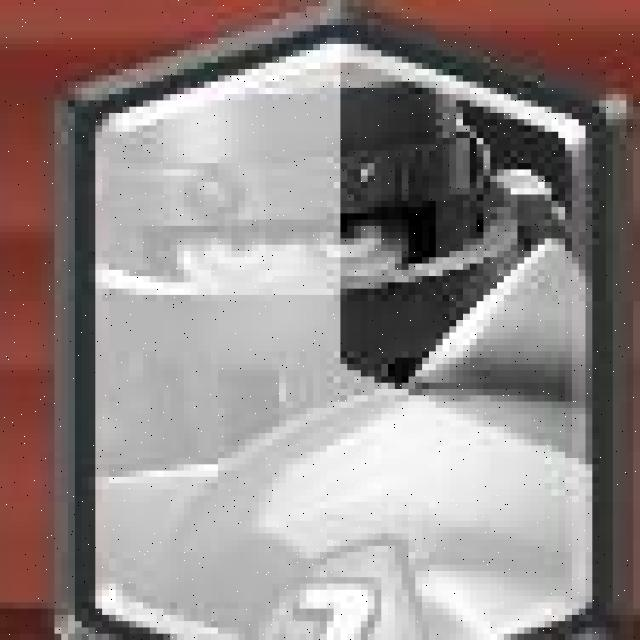Mega_Knight: (67, 8, 626, 640)
